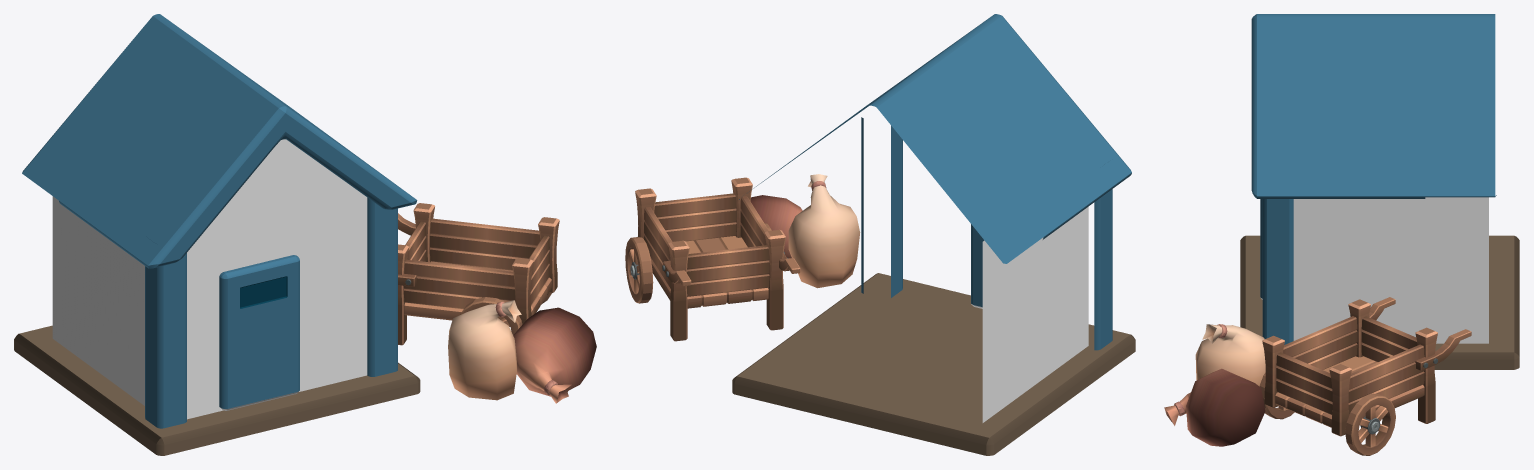
The picture shows the model from 3 angles, left to right: view 1: azimuth 30°, elevation 25°; view 2: azimuth 150°, elevation 25°; view 3: azimuth 270°, elevation 25°; orthographic projection. The views are drawn at different scales.
Parts seen in each view (by area): view 1: SM_房子推车; view 2: SM_房子推车; view 3: SM_房子推车.
Boxes of the visible parts, x1=… form: SM_房子推车: x1=14, y1=14, x2=596, y2=455; SM_房子推车: x1=625, y1=14, x2=1135, y2=455; SM_房子推车: x1=1164, y1=14, x2=1519, y2=455.
Size of the model in its own units: 4.93 by 3.4 by 3.5.
5 materials, 1 textured.
